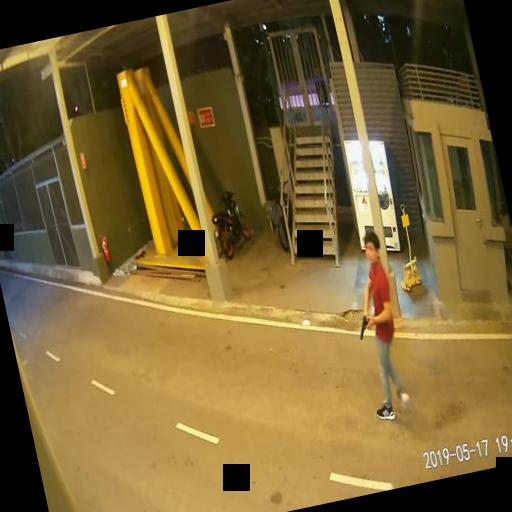Handgun: (353, 312, 371, 338)
